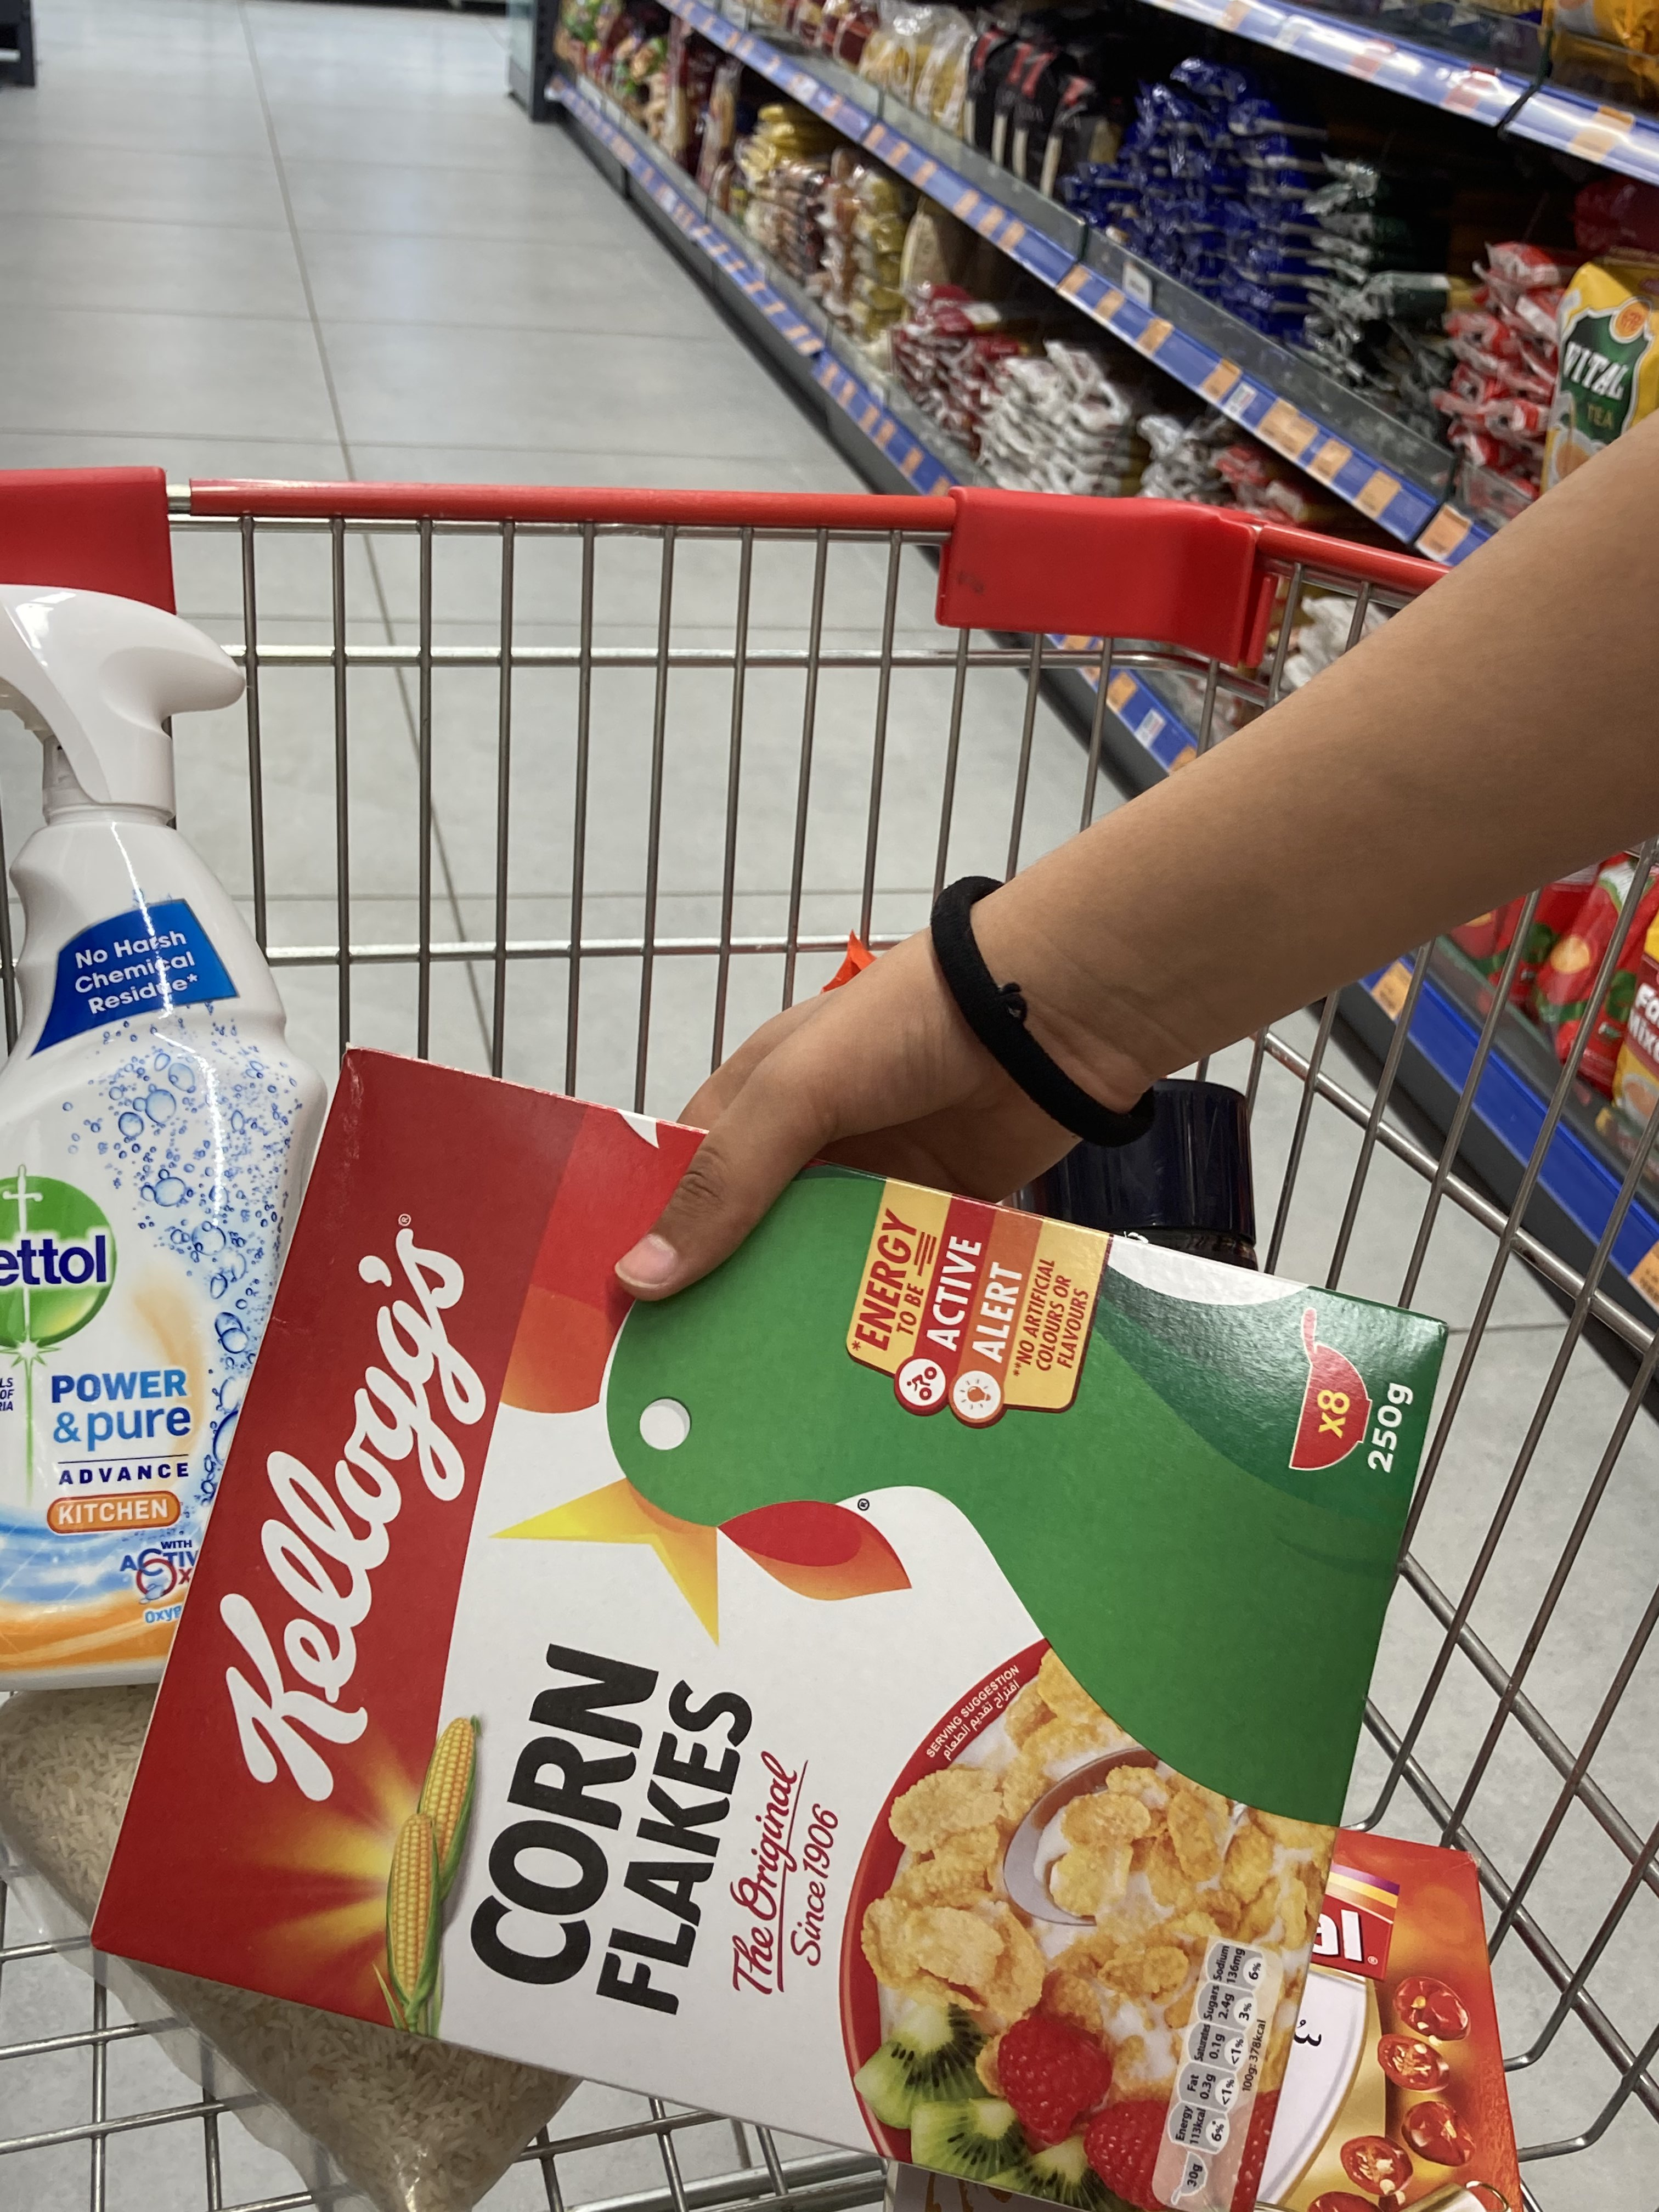Kellogg's Corn Flakes: (122, 1043, 1455, 2212)
